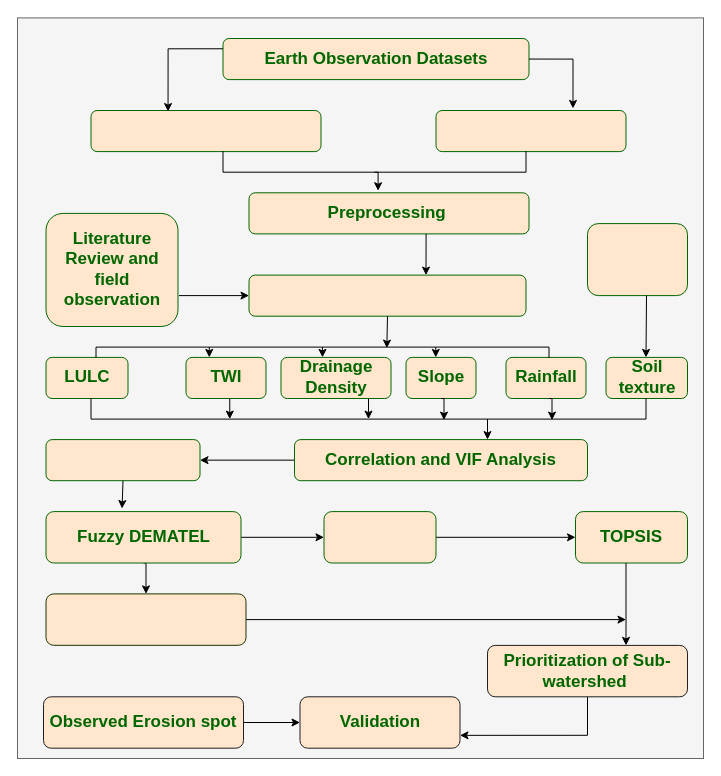
The diagram is 721 pixels wide and 776 high, and some of its shapes have lost their labels. The box of each missing label's shape, as (x1, y1, x2, y2) in pixels:
Biophysical variables: (248, 274, 526, 316)
DANP: (323, 511, 436, 563)
Digital Elevation Model: (90, 110, 321, 152)
Expert Decision: (45, 439, 200, 481)
Field soil sampling: (586, 223, 688, 296)
Influence Network Map: (45, 593, 246, 645)
Landsat 8 OLI (2024): (435, 110, 626, 152)
